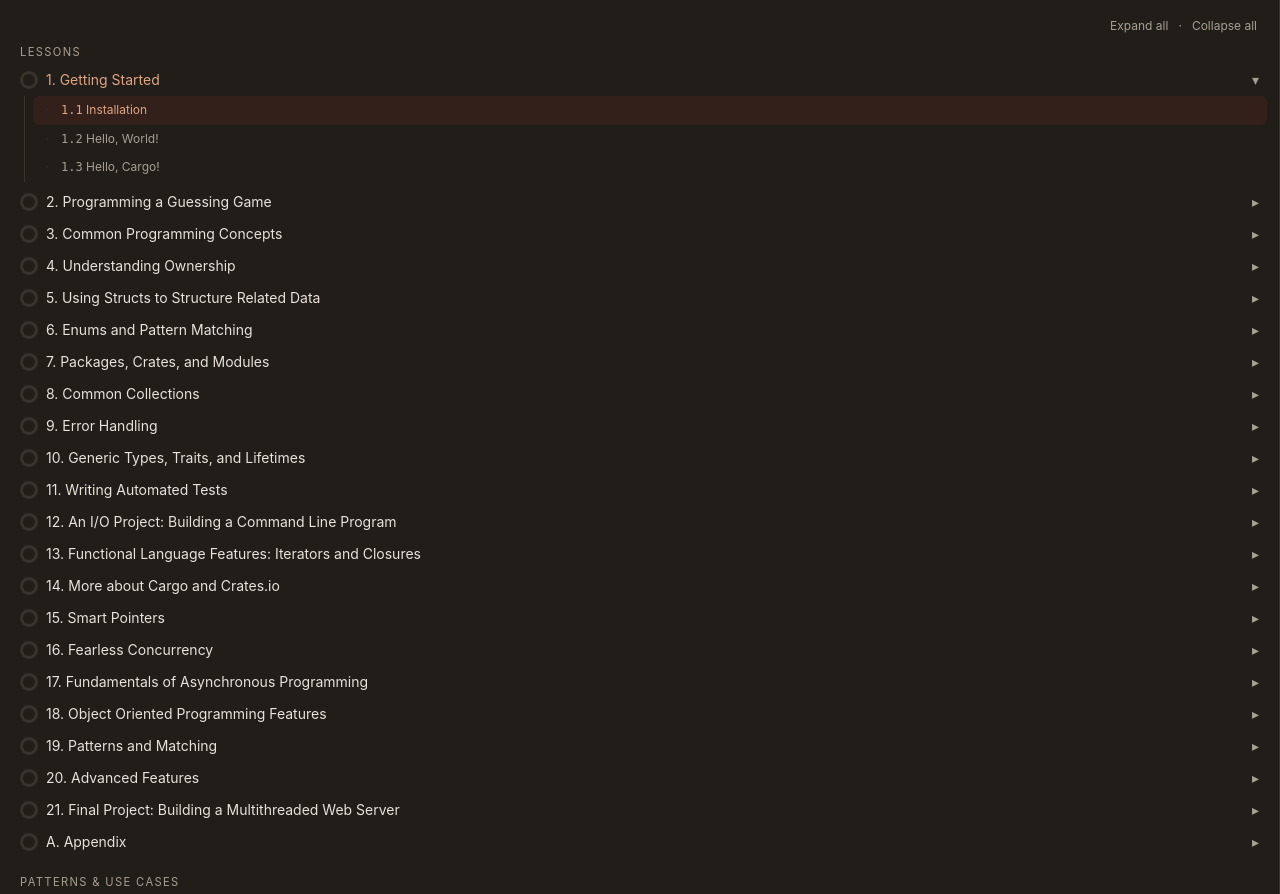
Test: collapses the current chapter when its header is clicked
Click the button "1. Getting Started ▾" at [103, 80], box [12,64,1267,96]
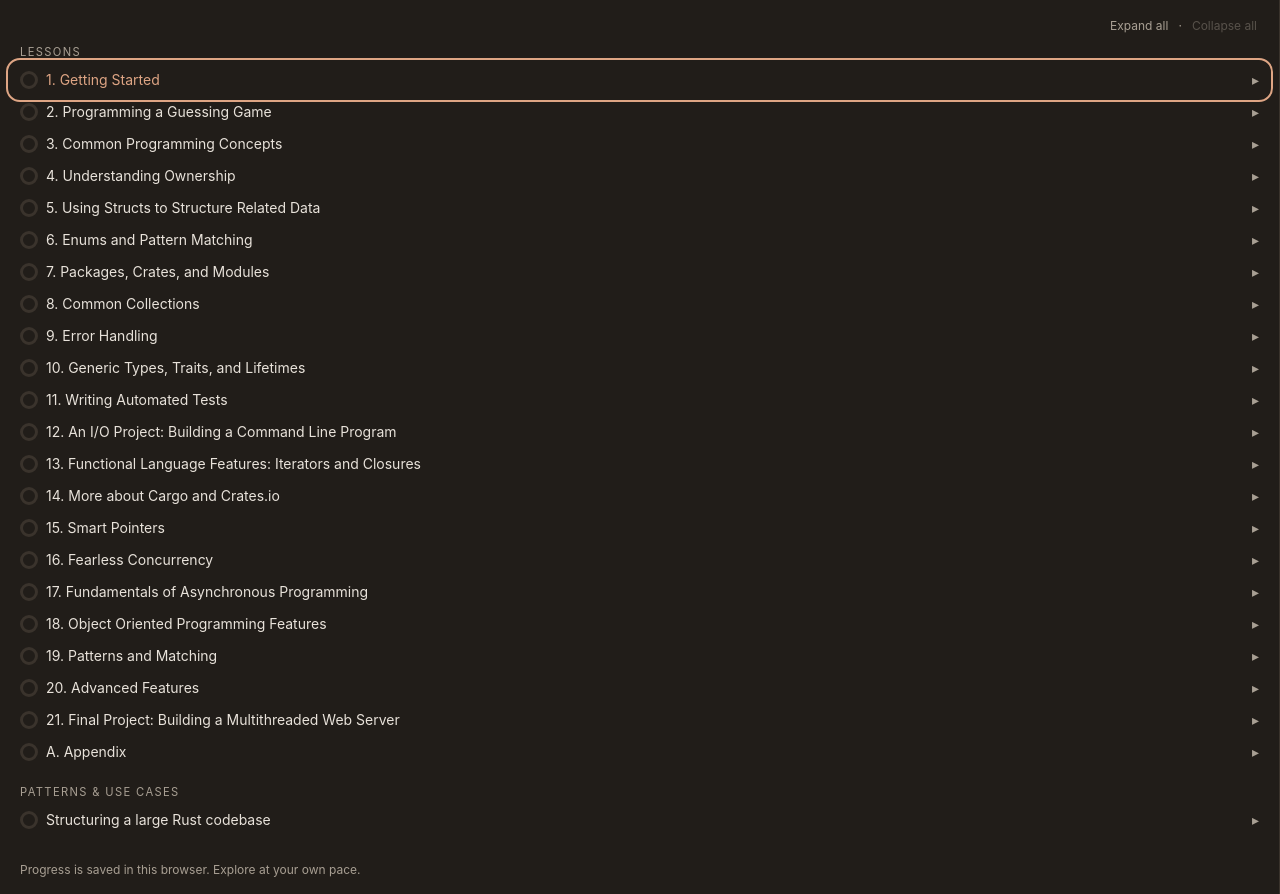
Expected: the link "1.1 Installation" is gone
